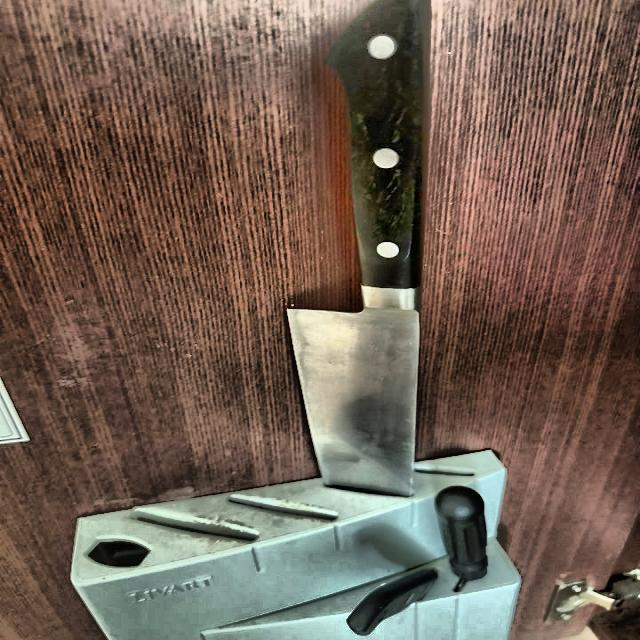knife: (284, 0, 430, 495)
